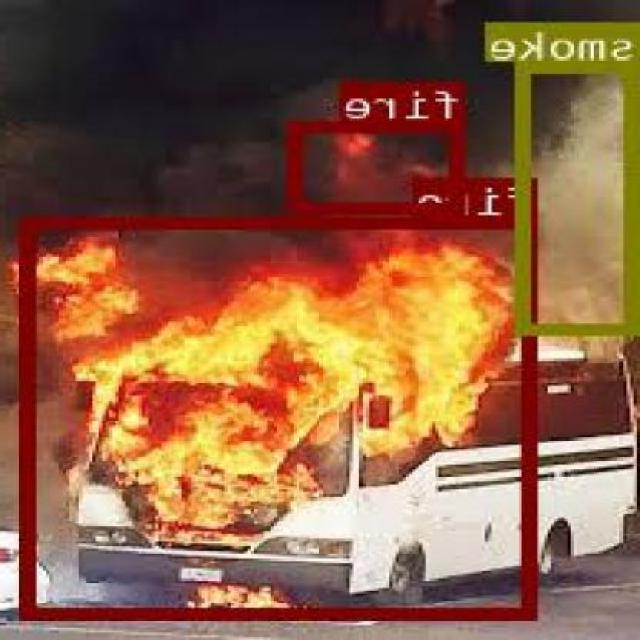Fire: (24, 217, 540, 617), (290, 120, 467, 212)
Smoke: (522, 61, 640, 333)
